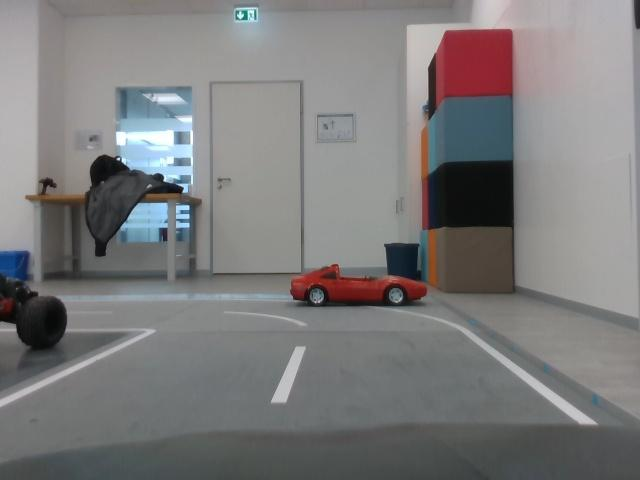car: (286, 259, 432, 314), (1, 268, 81, 358)
